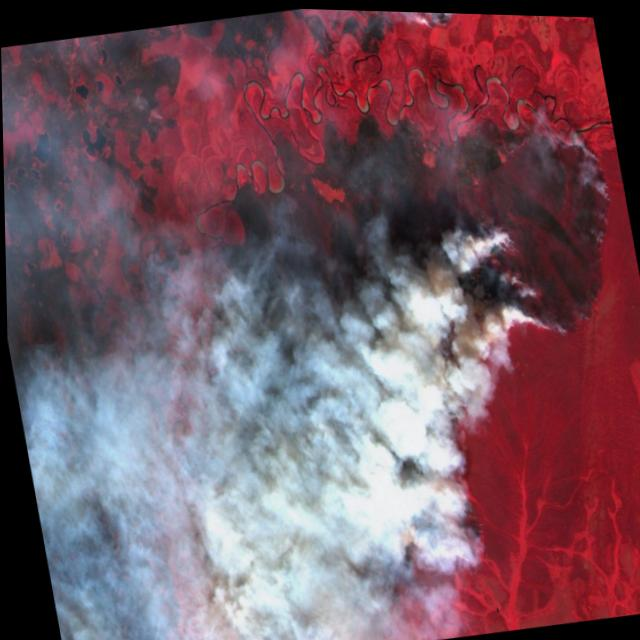fire: (341, 91, 640, 577), (350, 8, 476, 56)
